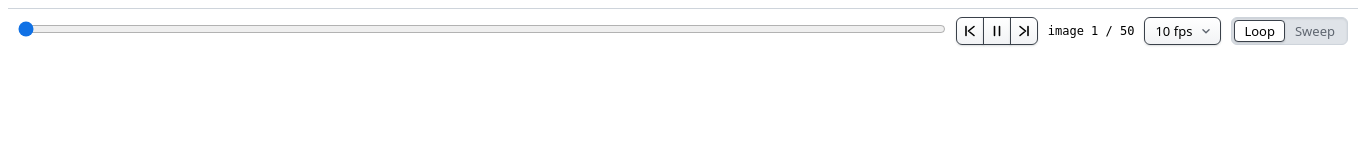
exposes the visible capture scrubber and stops playback when seeking
Set the slider named "Image position" to "49" at (938, 29), box [18,15,946,43]
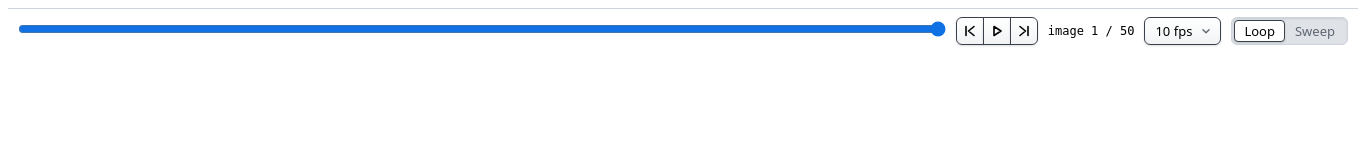
Expected: the button named "Play cine" is shown, [983,17,1011,45]
